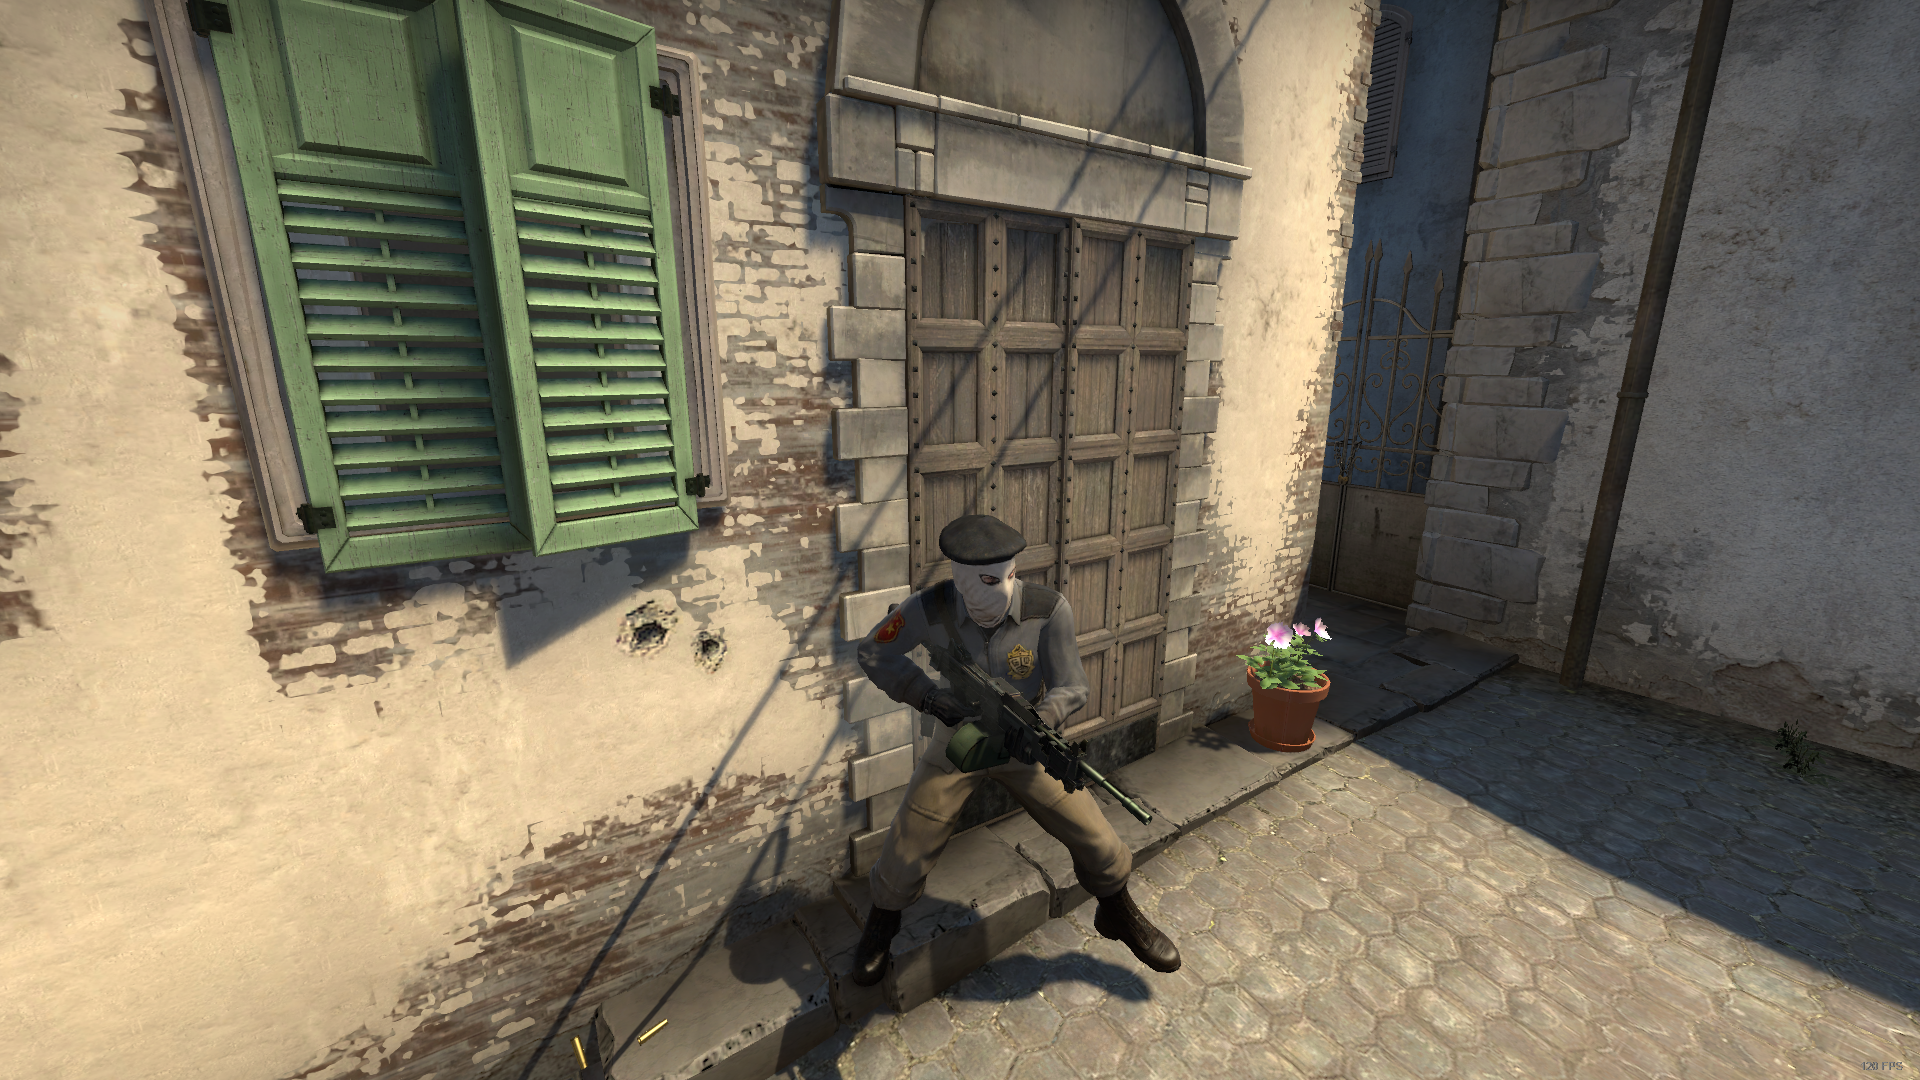t: (849, 510, 1183, 980)
